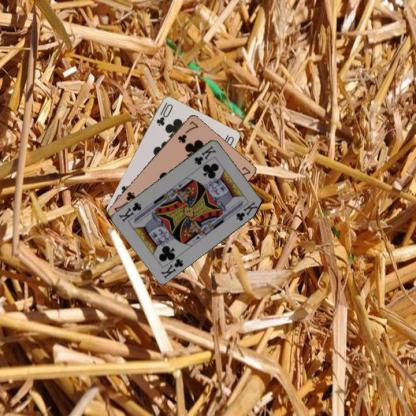10c: (154, 99, 174, 127)
7c: (175, 118, 200, 144)
Kc: (158, 251, 185, 280), (191, 144, 217, 166)
